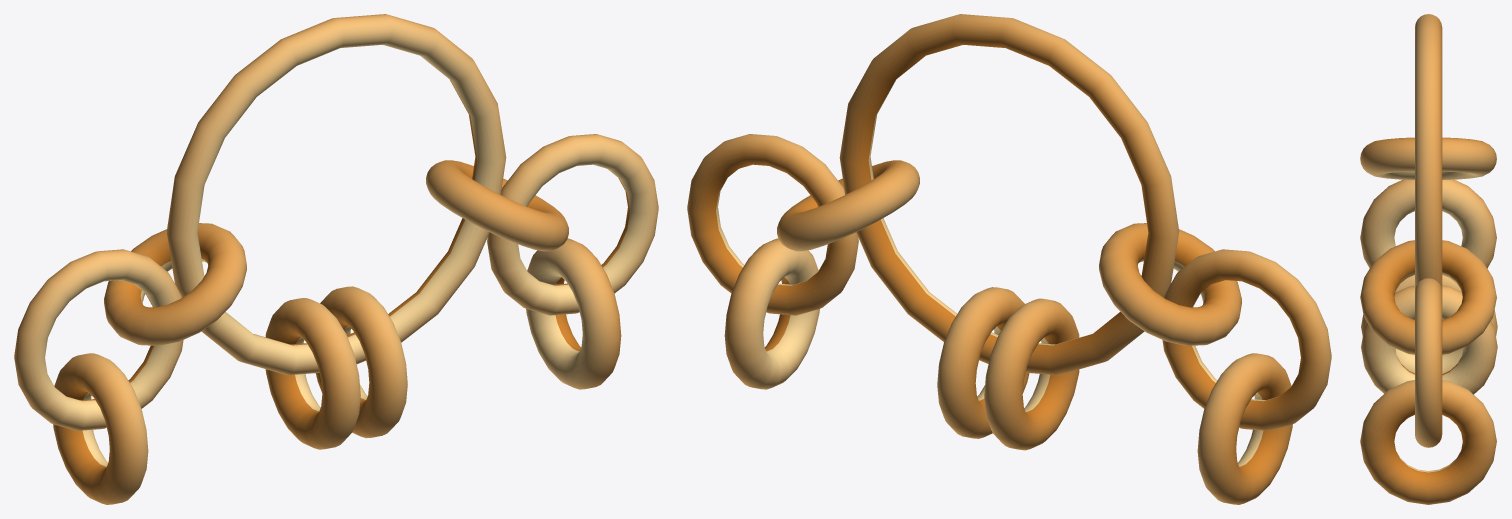
The model's file is hashigo_n_a.fbx.
3 renders of one model, left to right at view 1: azimuth 30°, elevation 25°; view 2: azimuth 150°, elevation 25°; view 3: azimuth 270°, elevation 25°, orthographic. The views are drawn at different scales.
Visible parts, largest first — view 1: t1; view 2: t1; view 3: t1.
Part boxes in pixels (left/top/right/bottom): t1: left=14, top=14, right=658, bottom=504; t1: left=687, top=14, right=1331, bottom=504; t1: left=1360, top=14, right=1497, bottom=504.
Bounding box in the file's own units: 19.09 × 12.03 × 4.02.
